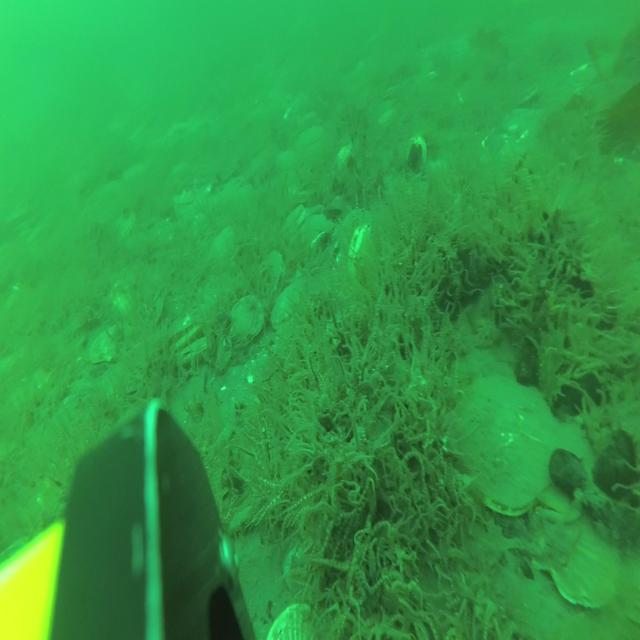scallop: (454, 376, 558, 518), (553, 513, 621, 605), (521, 472, 589, 556), (535, 426, 596, 512), (283, 538, 326, 602), (264, 601, 318, 640), (227, 297, 264, 348), (90, 318, 128, 366), (269, 281, 304, 328), (175, 336, 215, 377), (339, 204, 376, 248), (255, 248, 283, 304), (296, 214, 334, 254), (207, 231, 239, 274), (166, 320, 200, 351), (283, 204, 308, 238), (295, 125, 322, 154), (334, 141, 354, 180), (275, 147, 299, 172)
